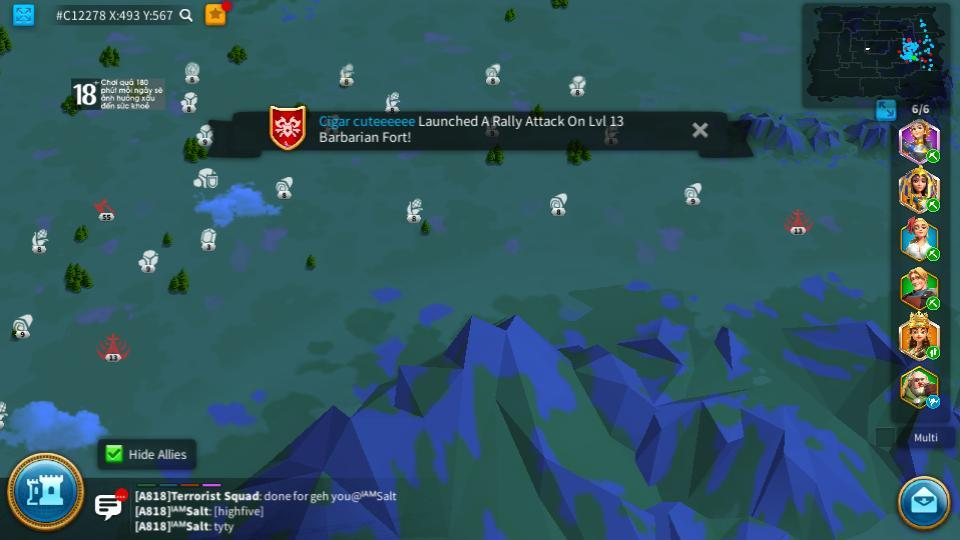gem-z-out: (199, 228, 218, 250), (182, 62, 201, 81)
march_marching: (925, 197, 941, 212), (925, 150, 942, 162), (925, 396, 942, 408), (925, 347, 941, 359), (925, 297, 942, 308), (925, 250, 941, 261)
